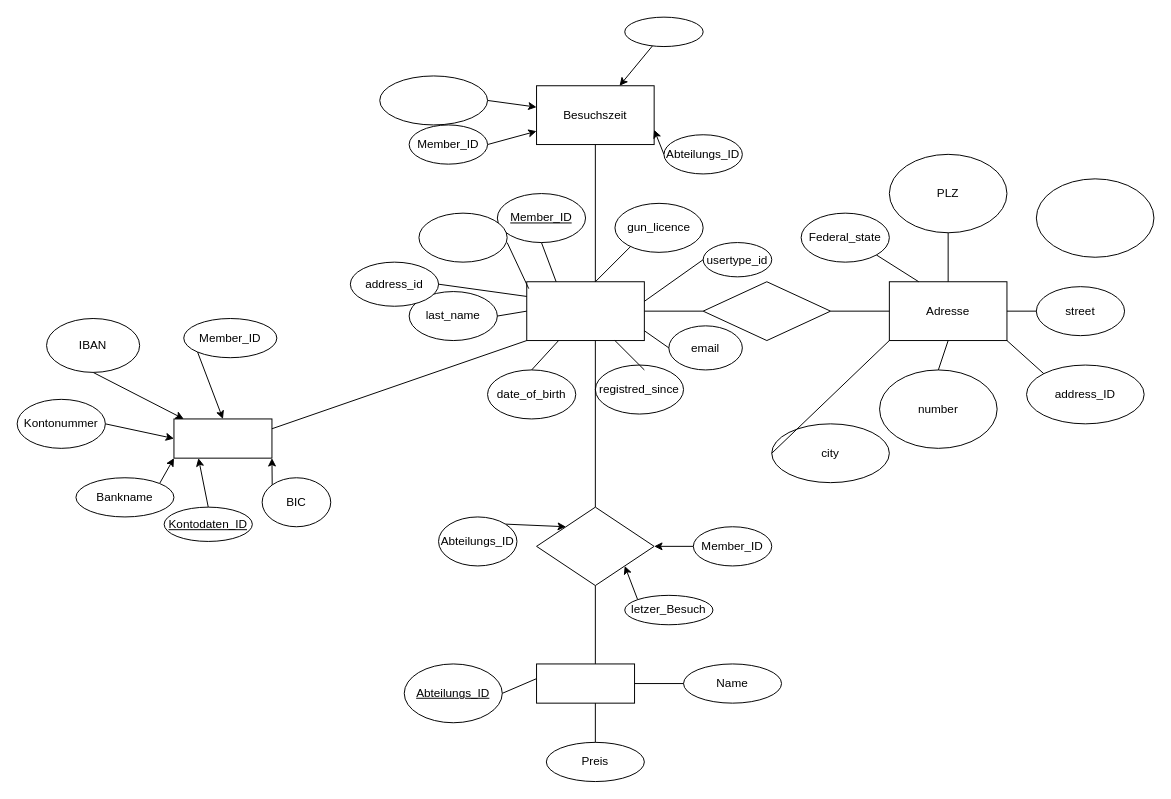
Some shapes in this 1171 by 799 pixel diagram are drawn without their labels. The shapes that lost their labels are listed below. From the top down, each one's centre as x and y in pixels, then its label:
At point 663,31: "TImestemp".
At point 433,100: "Besuchs_ID".
At point 462,237: "first_name".
At point 1094,217: "country".
At point 585,311: "Member".
At point 766,311: "wohnt in".
At point 222,438: "Kontodaten".
At point 595,546: "Miedglied von".
At point 585,683: "Abteilung".
